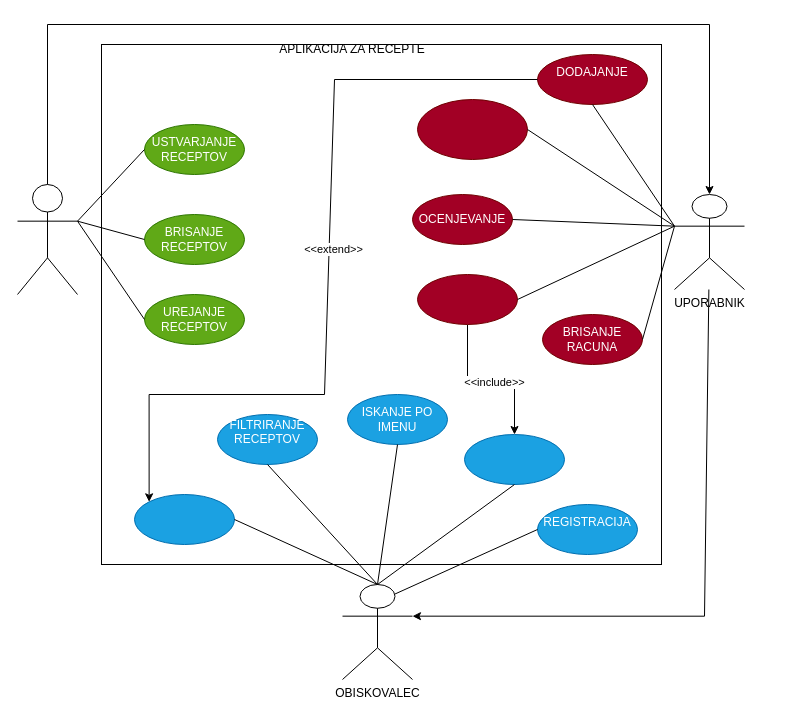
This 811x718 diagram has some shape labels left out. Here are the shapes that lost their labels. From the top down, the centre of each, then its label:
At [472,129]: "BRISANJE PRILJUBLJENIH".
At [47,239]: "ADMIN".
At [467,299]: "UREJANJE RACUNA".
At [514,459]: "PRIJAVA V RACUN".
At [184,519]: "OGLED RECEPTOV".
